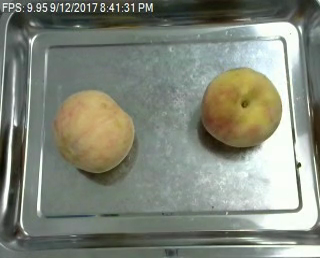Peach: (52, 88, 134, 173), (200, 66, 282, 147)
